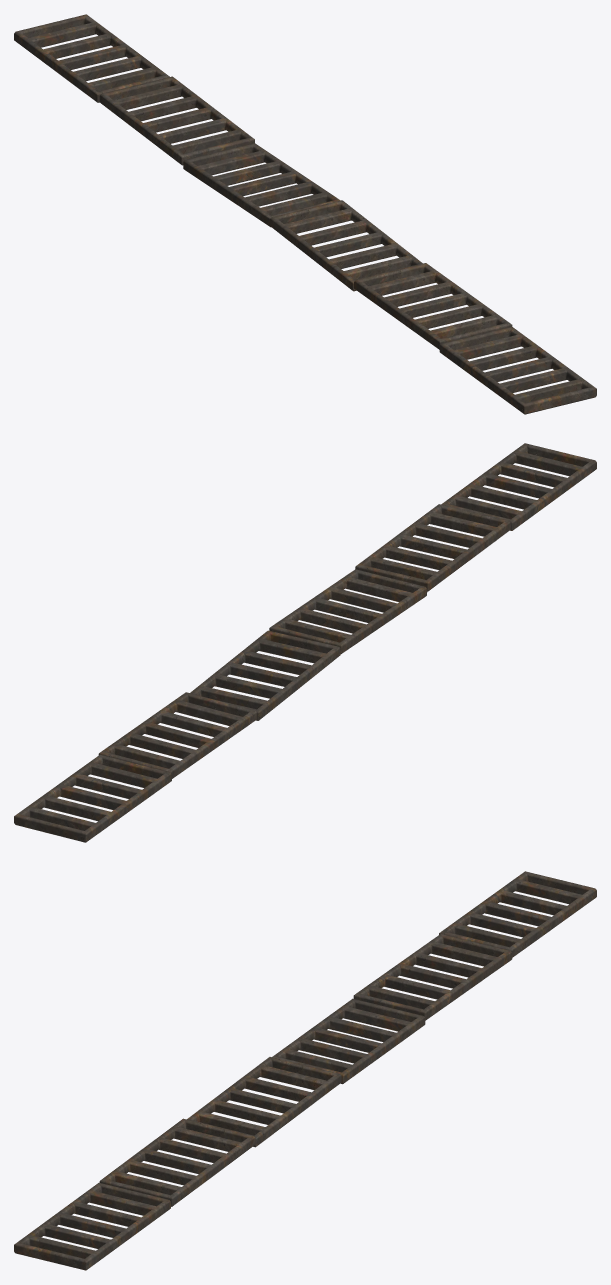
3 views of the same model, one above another, from view 1: azimuth 30°, elevation 25°; view 2: azimuth 150°, elevation 25°; view 3: azimuth 330°, elevation 25° (orthographic).
Visible parts, largest first — view 1: SM_DR_Grating_1x12_Spacing_LOD0; view 2: SM_DR_Grating_1x12_Spacing_LOD0; view 3: SM_DR_Grating_1x12_Spacing_LOD0.
Part boxes in pixels (<box>): SM_DR_Grating_1x12_Spacing_LOD0: <box>14,14,596,414</box>; SM_DR_Grating_1x12_Spacing_LOD0: <box>14,443,596,842</box>; SM_DR_Grating_1x12_Spacing_LOD0: <box>14,871,596,1270</box>.
Size of the model in its own units: 1.03 by 0.1978 by 12.
1 material, 1 textured.
